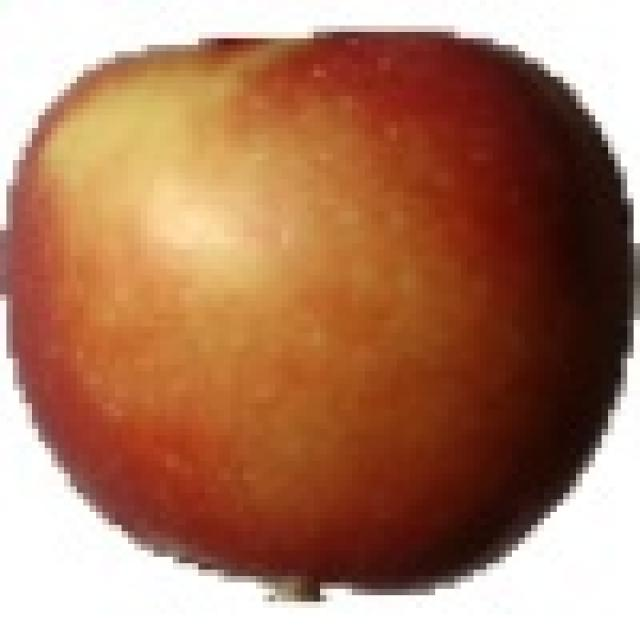apple: (2, 29, 636, 604)
